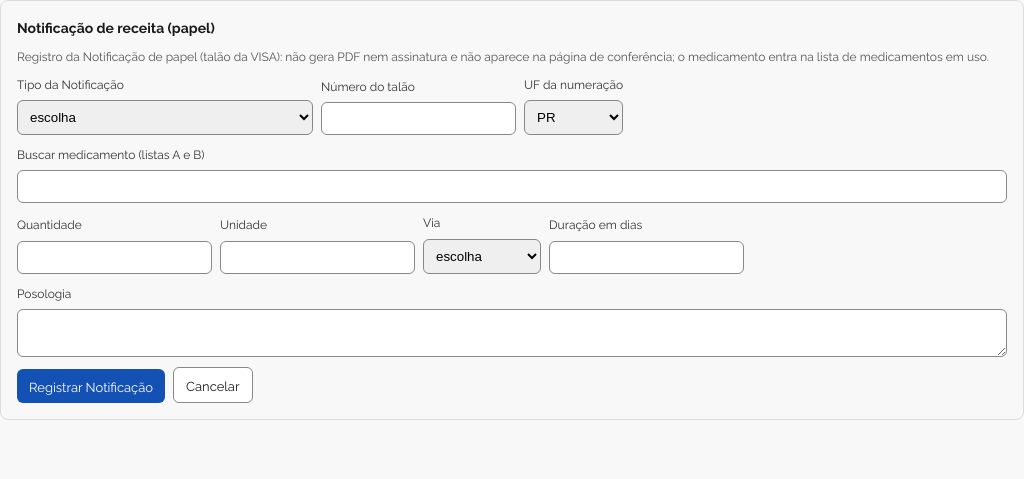
Test: NotificationRecordForm › Notificação A até 30 dias
Type "Morfin" into the field labelled "Buscar medicamento (listas A e B)" at (512, 187), box [17,170,1007,204]
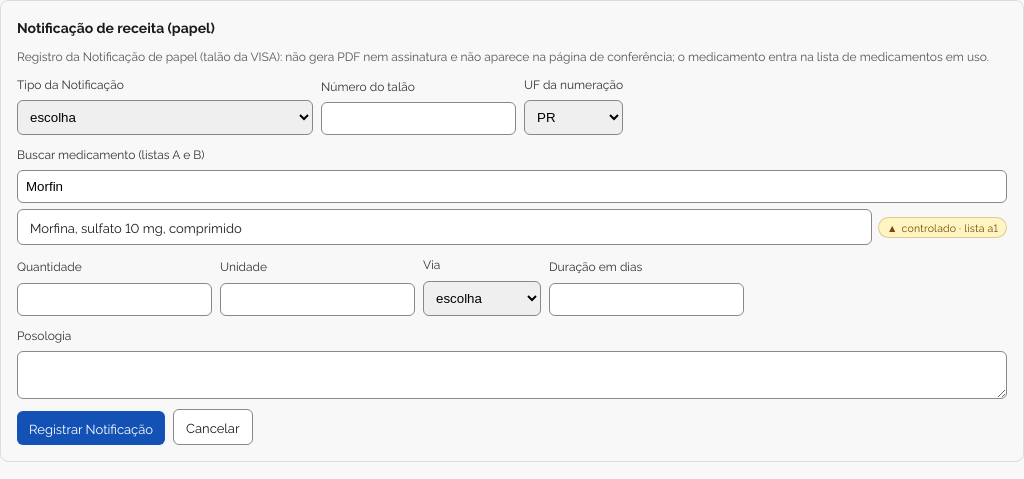
Click the button "Morfina, sulfato 10 mg, comprimido" at (136, 227), box [17,210,872,246]
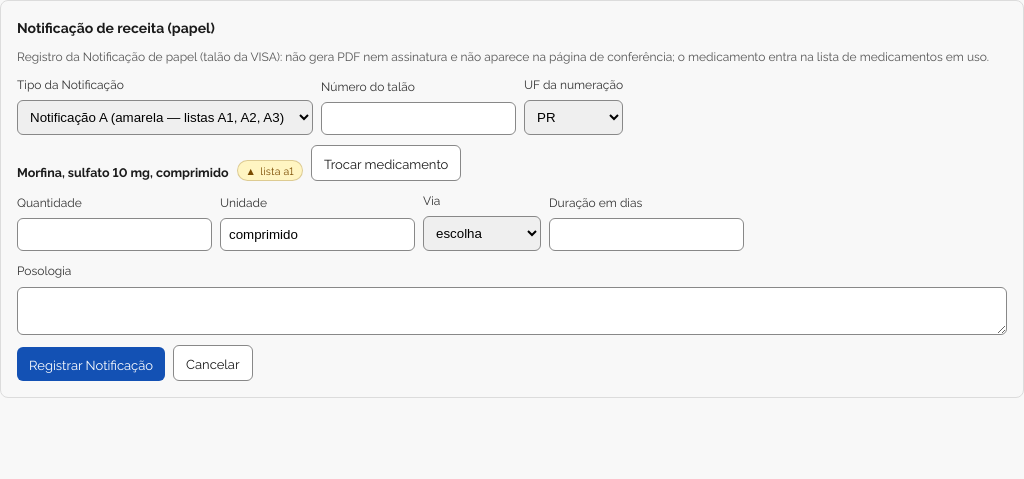
Type "PR0012345" into the field labelled "Número do talão" at (418, 119), box [321,102,516,135]
Type "30" into the field labelled "Quantidade" at (114, 235), box [17,218,212,252]
Select "oral" in the dropdown labelled "Via" at (482, 234), box [423,216,541,252]
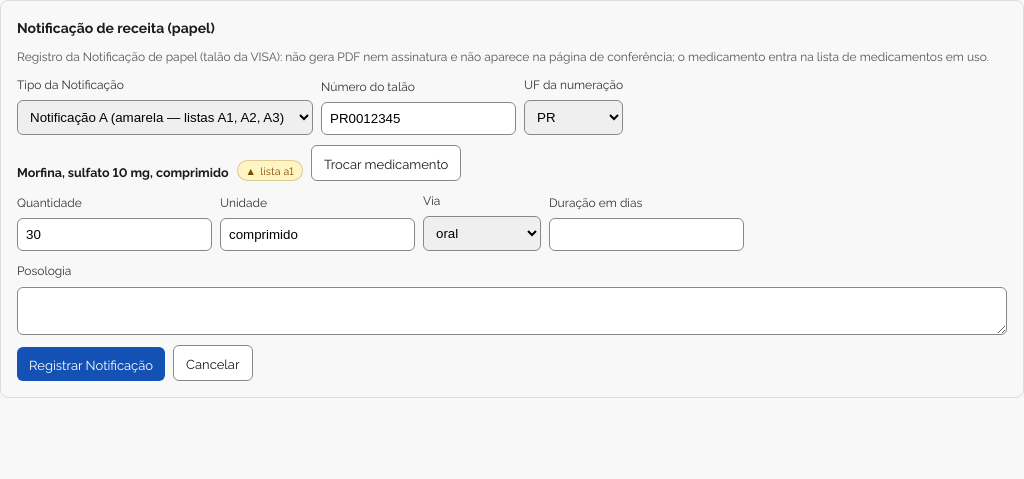
Type "45" into the field labelled "Duração em dias" at (646, 235), box [549,218,744,252]
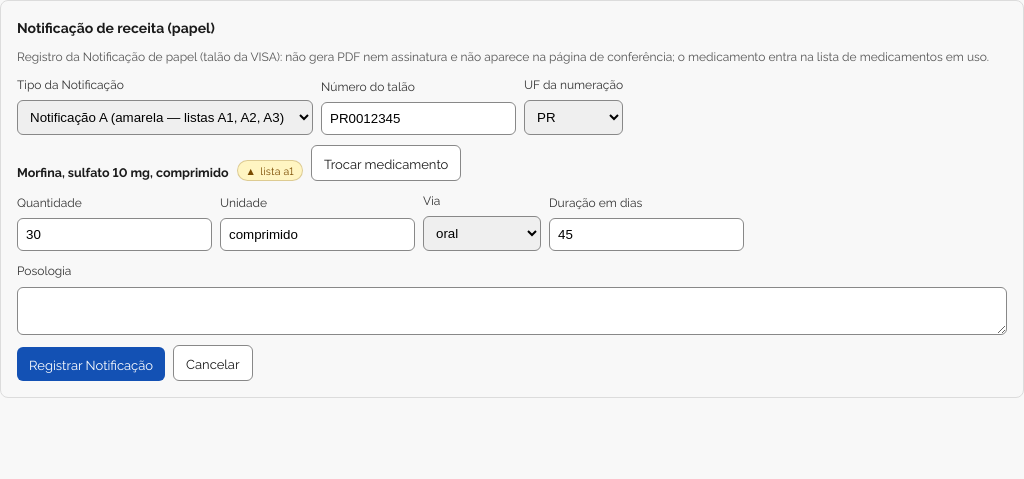
Type "1 comprimido à noite" into the text box labelled "Posologia" at (512, 311), box [17,287,1007,335]
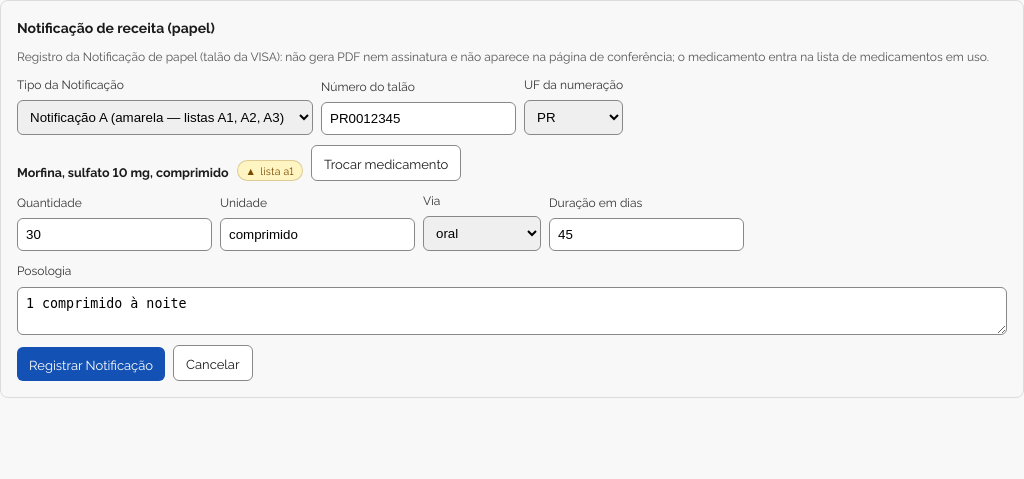
Click the button "Registrar Notificação" at (91, 364), box [17,347,165,381]
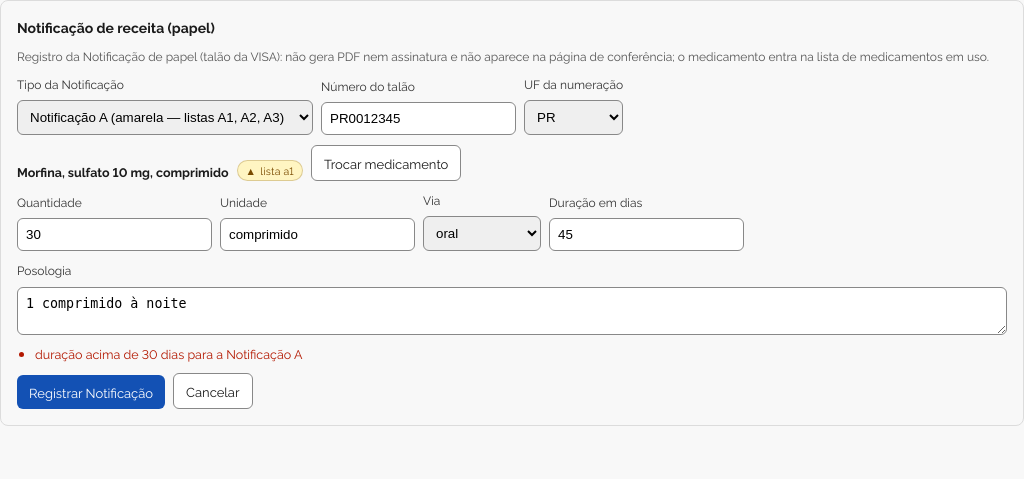
Now the message reads "duração acima de 30 dias para a Notificação A", box [35,345,302,362]
